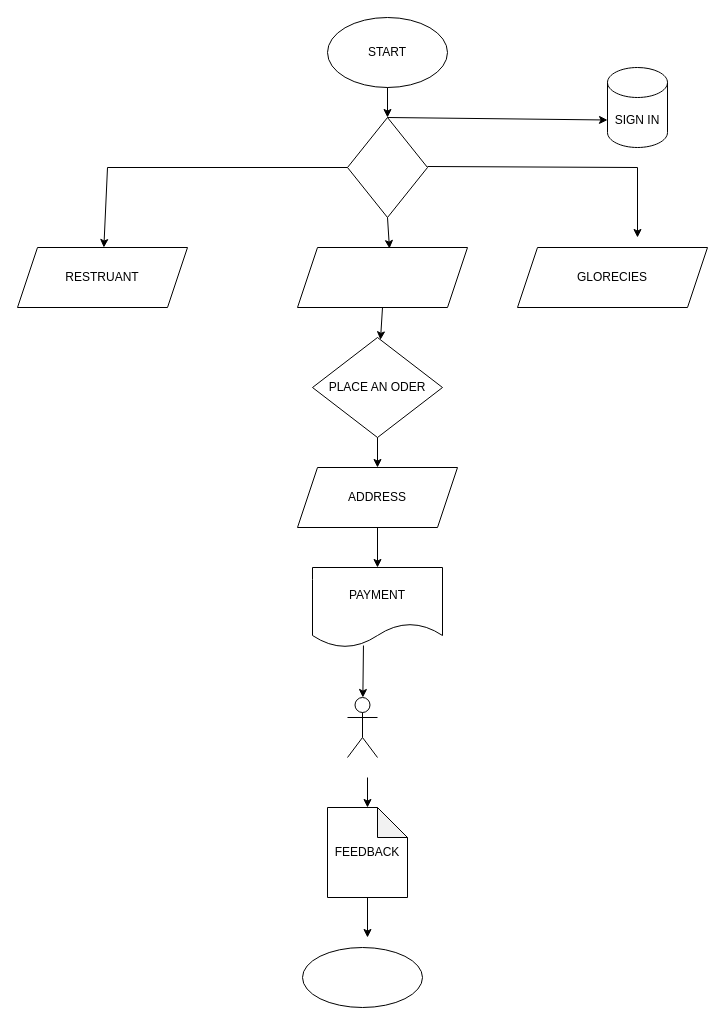
The diagram is 725 pixels wide and 1025 high, and some of its shapes have lost their labels. The centre of each missing label's shape, as x and y in pixels:
"Actor" belongs at pixel 362 727.
"END" belongs at pixel 362 977.
"FOOD" belongs at pixel 382 277.
"LOGIN" belongs at pixel 387 167.
